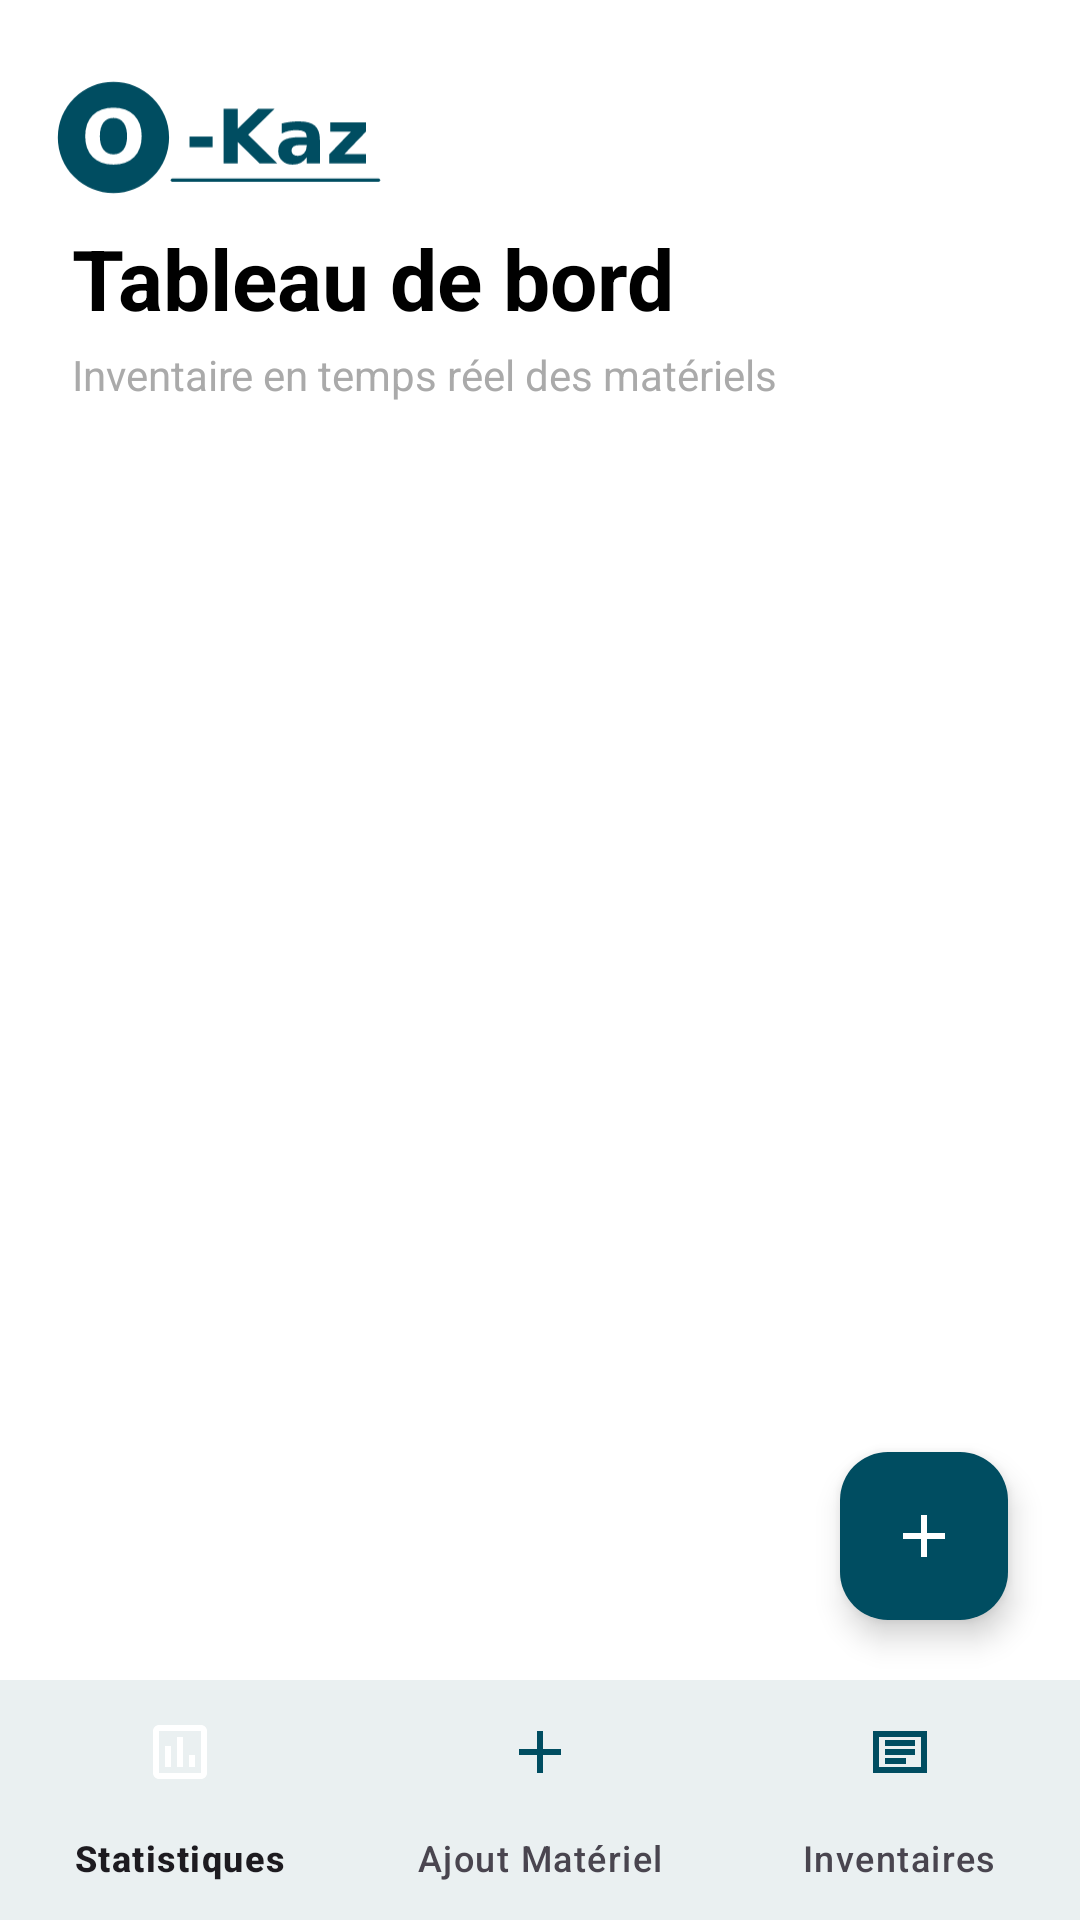

Icons on this 1080w x 1920h Android screen, each with its box as rect(x1, y1, x2, y2):
add: rect(840, 1452, 1008, 1620)
